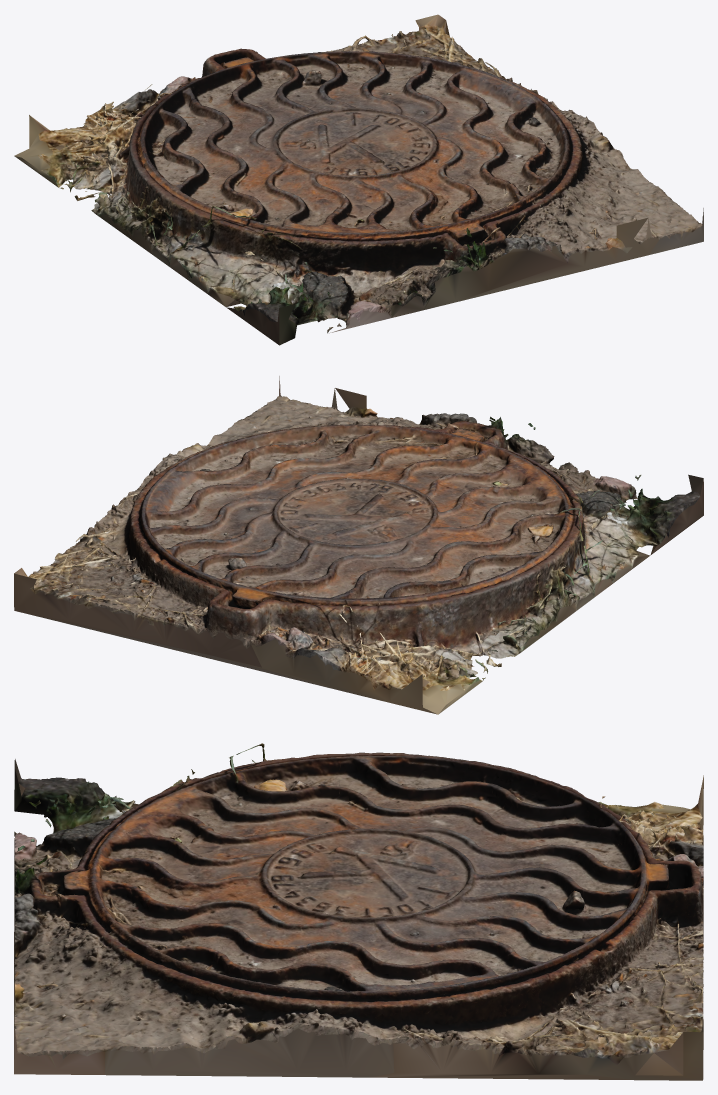
File: sf-hatch-8k-3d-scan-free-c85a0e.glb
3 renders of one model, top to bottom at view 1: azimuth 30°, elevation 25°; view 2: azimuth 150°, elevation 25°; view 3: azimuth 270°, elevation 25°, orthographic. The views are drawn at different scales.
Parts seen in each view (by area): view 1: meshNode_Material_u1_v1_0; view 2: meshNode_Material_u1_v1_0; view 3: meshNode_Material_u1_v1_0.
Part boxes in pixels (x1=…): meshNode_Material_u1_v1_0: x1=14, y1=14, x2=703, y2=345; meshNode_Material_u1_v1_0: x1=14, y1=376, x2=703, y2=714; meshNode_Material_u1_v1_0: x1=14, y1=743, x2=703, y2=1080.
Bounding box in the file's own units: 29.91 × 4.56 × 32.45.
1 material, 1 textured.
